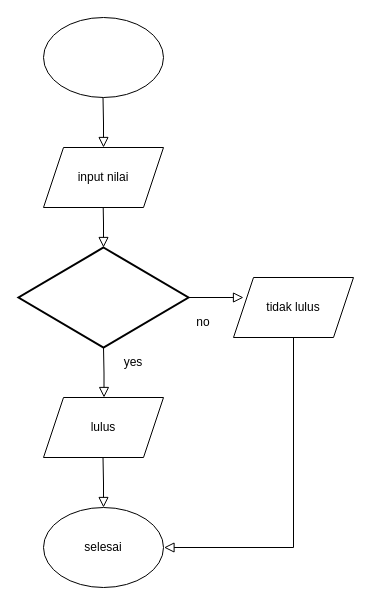
This 371x605 diagram has some shape labels left out. Each missing label, with the box of its shape:
? nilai >= 75: (17, 246, 189, 348)
mulai: (42, 16, 164, 98)
